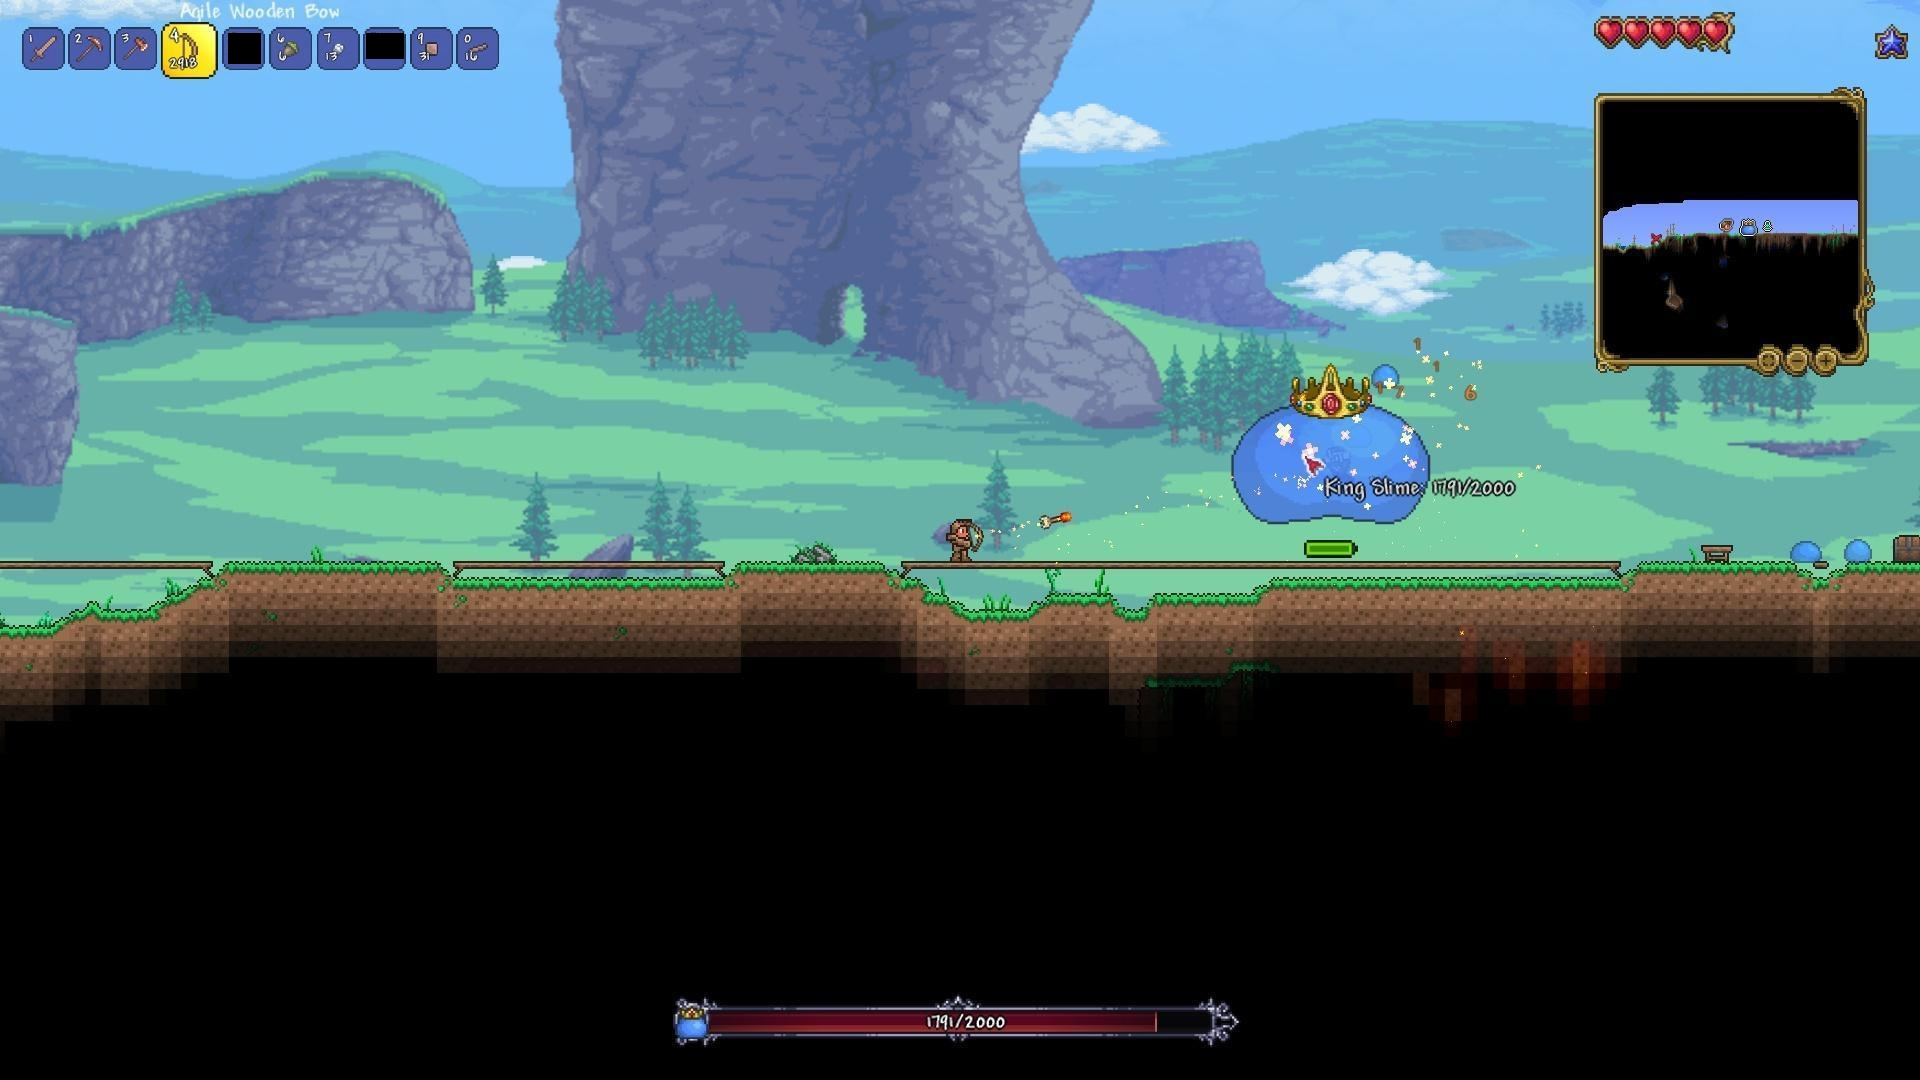slime: (1789, 537, 1824, 567), (1841, 535, 1875, 563), (1370, 364, 1400, 386)
workbench: (1696, 541, 1733, 566)
